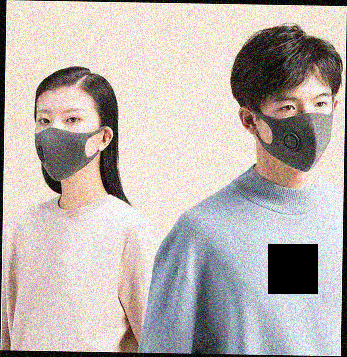with_mask: (258, 89, 334, 171), (34, 103, 100, 182)
